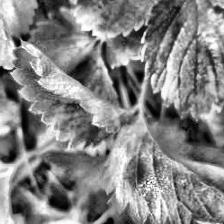Powdery Mildew Leaf: (9, 36, 139, 151), (101, 107, 224, 224)
